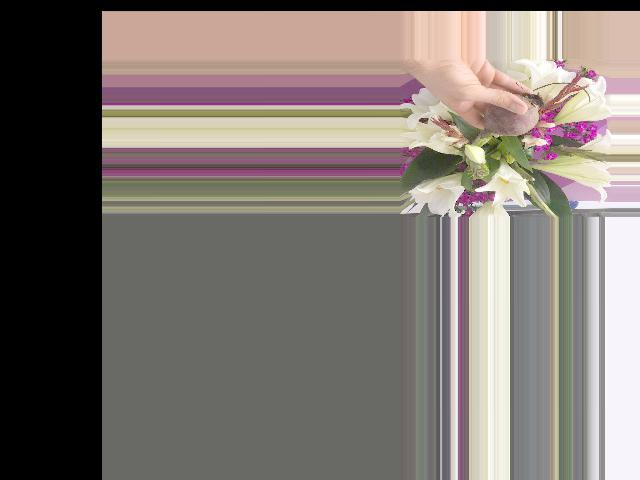beet: (469, 92, 544, 145)
